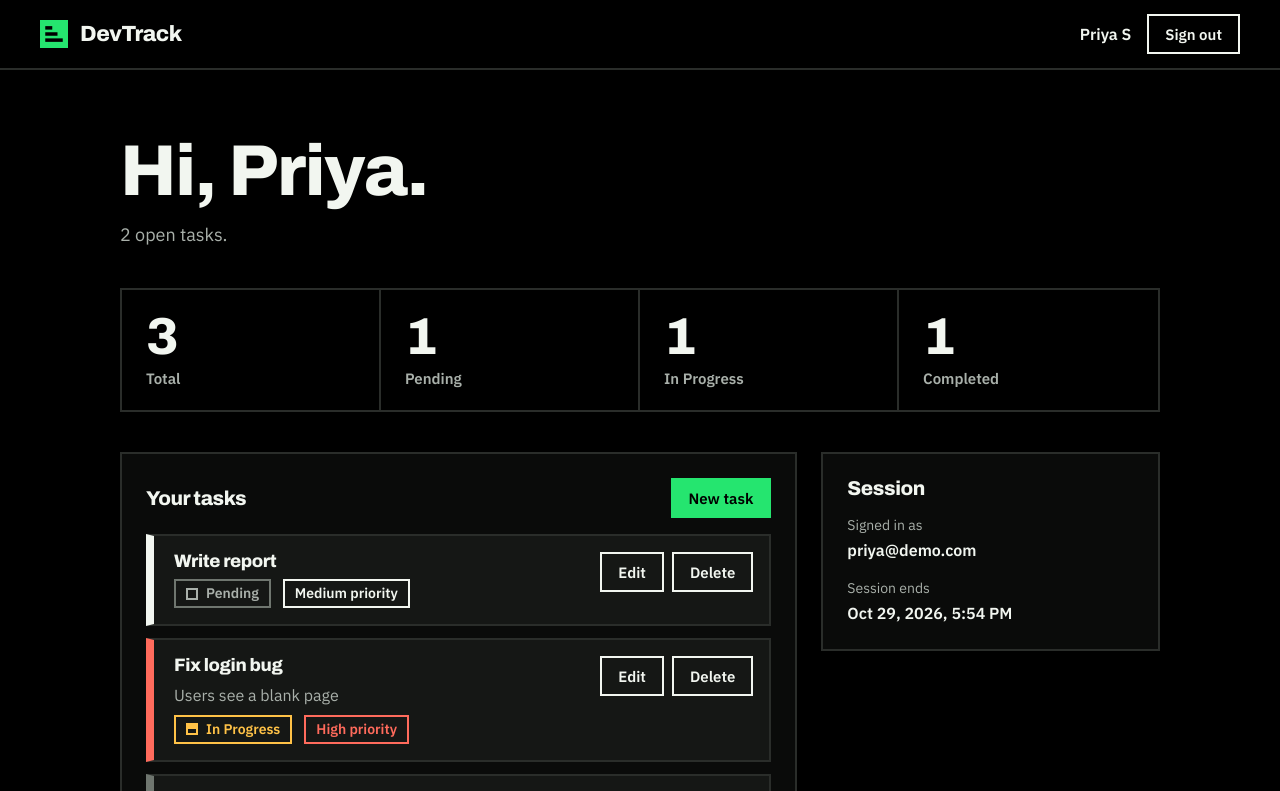
Test case: Dashboard: delete › asks for confirmation, then deletes and removes the card
expect the heading "Hi, Priya." is shown: met, box [120,132,428,210]
Step 1. Click the button with aria-label "Delete Write report" → click(713, 572), box [672,552,753,592]
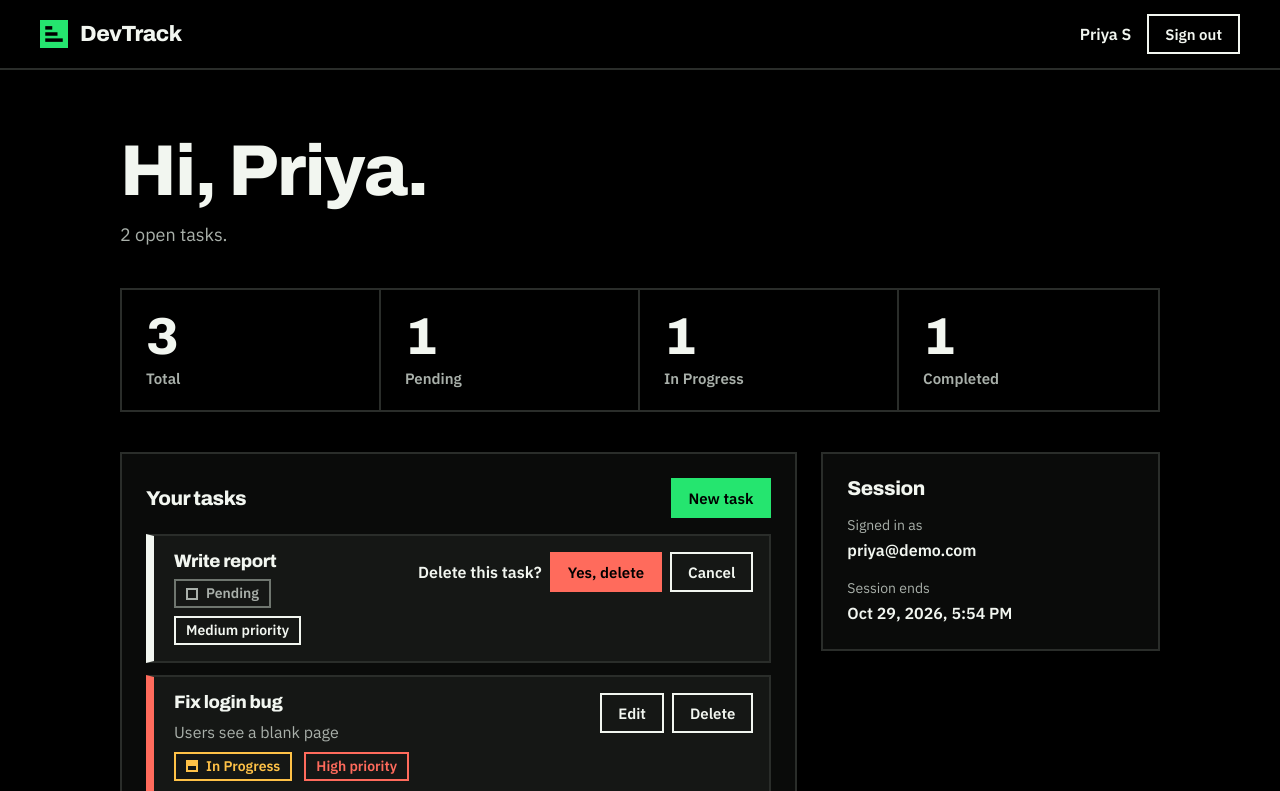
Step 2. Click the button "Yes, delete" → click(606, 572), box [550,552,662,592]
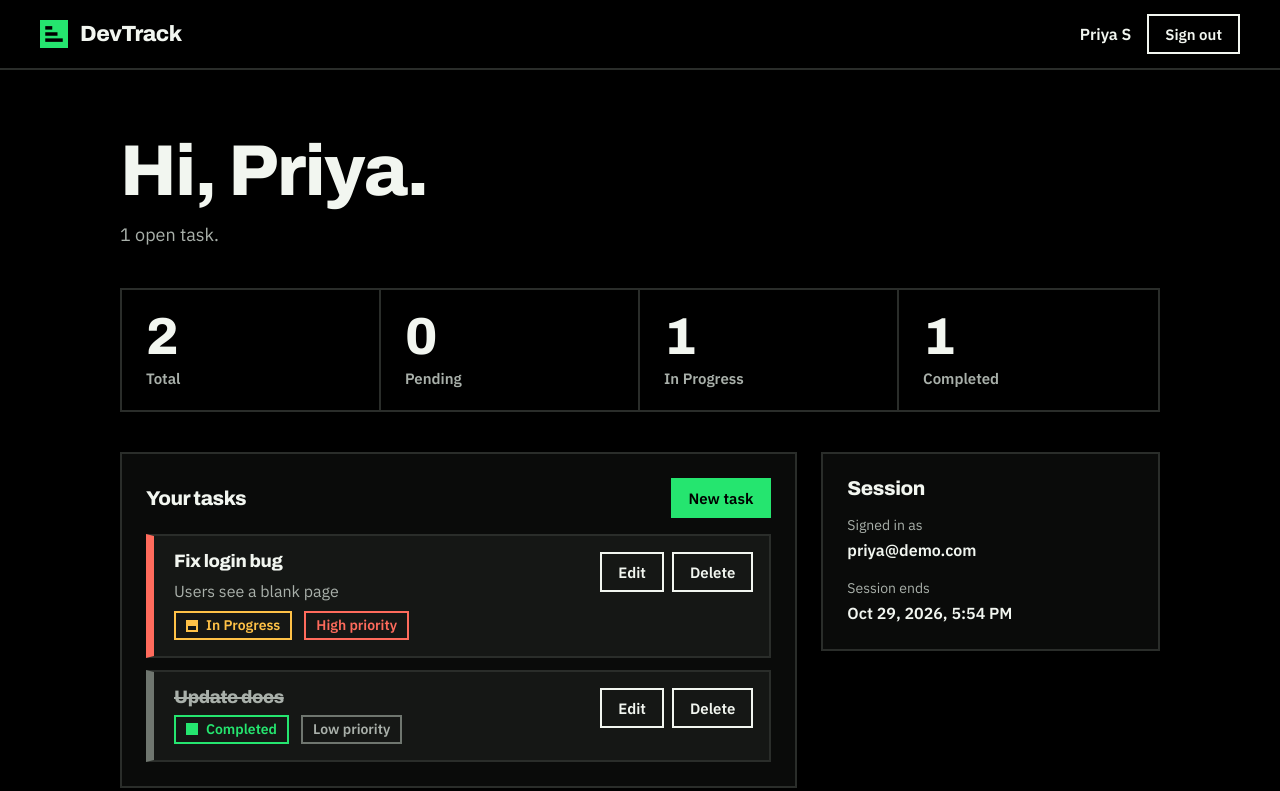
expect the heading "Write report" is gone: met
expect the number of list items is 2: met, box [146,534,771,658]; [146,670,771,762]
